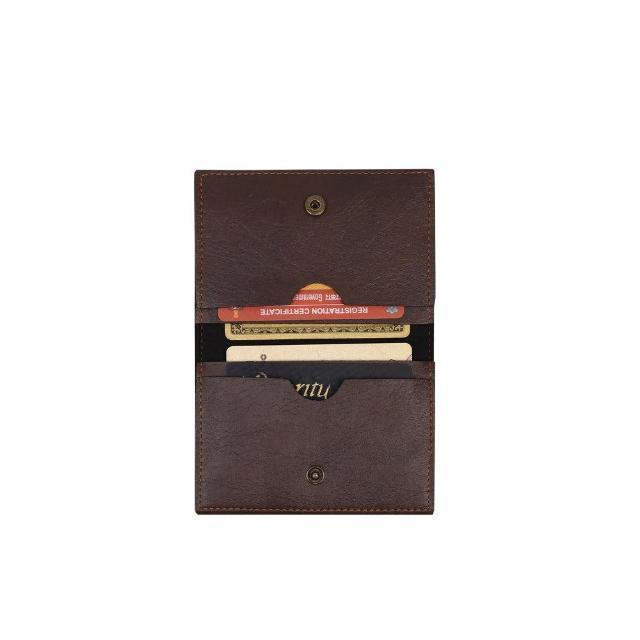wallet: (189, 166, 435, 518)
